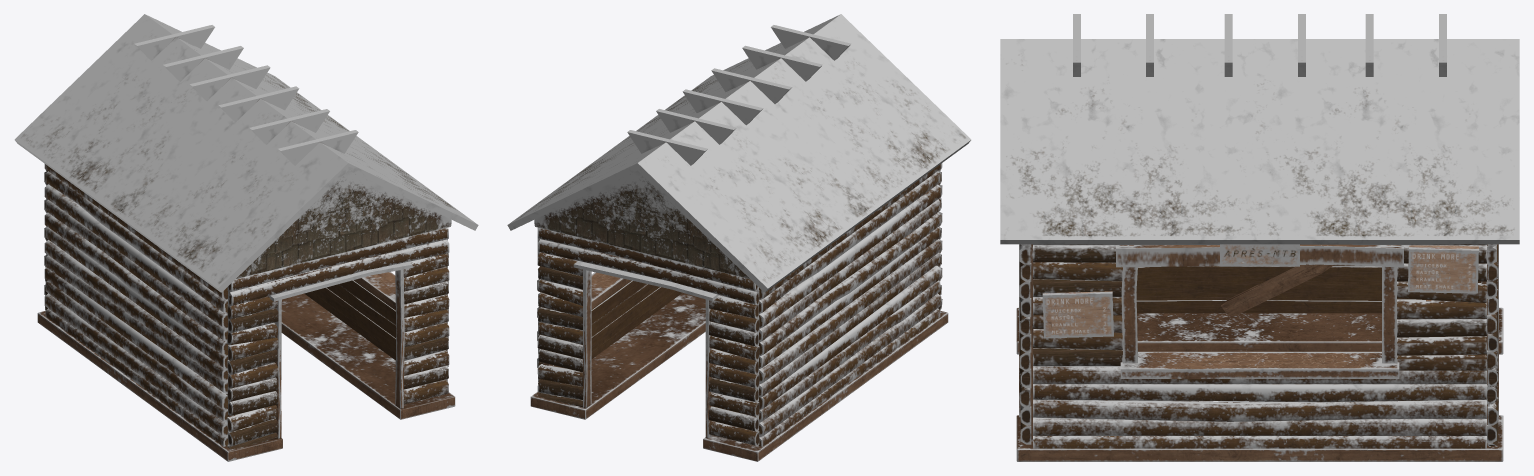
Rendered from lodge_bar.fbx.
The picture shows the model from 3 angles, left to right: view 1: azimuth 30°, elevation 25°; view 2: azimuth 150°, elevation 25°; view 3: azimuth 270°, elevation 25°; orthographic projection. The views are drawn at different scales.
Parts seen in each view (by area): view 1: lodge_bar; view 2: lodge_bar; view 3: lodge_bar.
Part boxes in pixels (x1,y1,x2,y2): lodge_bar: (14,14,478,461); lodge_bar: (507,14,971,461); lodge_bar: (1000,14,1519,461).
Bounding box in the file's own units: 527 × 535 × 714.
